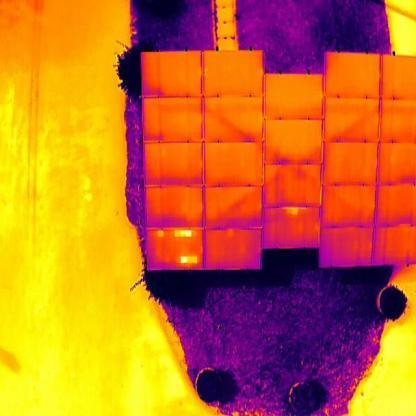anomaly: (178, 254, 201, 266), (173, 228, 194, 239), (154, 229, 168, 238)
